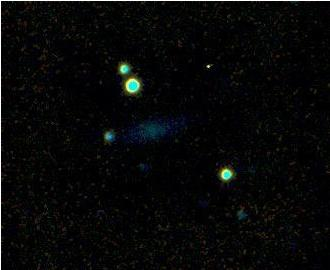star: (191, 52, 221, 82)
